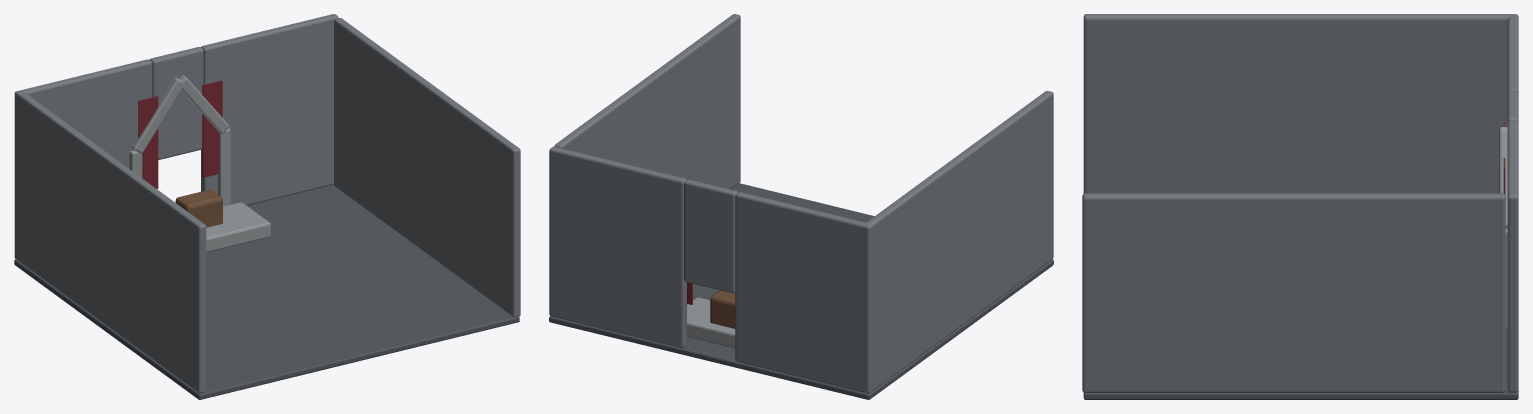
The model's file is great-hall.glb.
3 views of the same model, side by side, from view 1: azimuth 30°, elevation 25°; view 2: azimuth 150°, elevation 25°; view 3: azimuth 270°, elevation 25° (orthographic). The views are drawn at different scales.
Parts seen in each view (by area): view 1: VIS_HALL_FLOOR, VIS_HALL_SIDE_WALL_FRONT_9.75, VIS_HALL_SIDE_WALL_FRONT_-9.75, VIS_HALL_END_WALL_R, VIS_HALL_SIDE_WALL_REAR_-9.75, VIS_HALL_END_WALL_L, VIS_HALL_END_WALL_TOP, VIS_THRONE_DAIS, VIS_BANNER_2.0, VIS_BANNER_-2.0, VIS_THRONE_SEAT, VIS_THRONE_ARCH_ARCH_L (+2 smaller); view 2: VIS_HALL_END_WALL_R, VIS_HALL_END_WALL_L, VIS_HALL_SIDE_WALL_FRONT_-9.75, VIS_HALL_SIDE_WALL_FRONT_9.75, VIS_HALL_SIDE_WALL_REAR_-9.75, VIS_HALL_FLOOR, VIS_HALL_END_WALL_TOP, VIS_THRONE_DAIS, VIS_THRONE_SEAT; view 3: VIS_HALL_SIDE_WALL_FRONT_9.75, VIS_HALL_SIDE_WALL_FRONT_-9.75, VIS_HALL_SIDE_WALL_REAR_-9.75, VIS_HALL_END_WALL_R, VIS_HALL_FLOOR, VIS_HALL_END_WALL_L, VIS_THRONE_ARCH_ARCH_R.
Boxes of the visible parts, box(x1,y1,x2,y2) form: VIS_HALL_FLOOR: box(14, 184, 519, 399); VIS_HALL_SIDE_WALL_FRONT_9.75: box(334, 18, 520, 317); VIS_HALL_SIDE_WALL_FRONT_-9.75: box(61, 124, 206, 393); VIS_HALL_END_WALL_R: box(201, 14, 338, 205); VIS_HALL_SIDE_WALL_REAR_-9.75: box(14, 92, 94, 314); VIS_HALL_END_WALL_L: box(15, 59, 152, 258); VIS_HALL_END_WALL_TOP: box(149, 47, 203, 159); VIS_THRONE_DAIS: box(206, 202, 270, 252); VIS_BANNER_2.0: box(202, 80, 222, 177); VIS_BANNER_-2.0: box(138, 96, 158, 188); VIS_THRONE_SEAT: box(175, 189, 222, 227); VIS_THRONE_ARCH_ARCH_L: box(131, 77, 183, 153); VIS_HALL_END_WALL_R: box(549, 146, 686, 348); VIS_HALL_END_WALL_L: box(735, 192, 872, 392); VIS_HALL_SIDE_WALL_FRONT_-9.75: box(910, 91, 1053, 354); VIS_HALL_SIDE_WALL_FRONT_9.75: box(554, 14, 740, 189); VIS_HALL_SIDE_WALL_REAR_-9.75: box(863, 170, 946, 393); VIS_HALL_FLOOR: box(549, 183, 1053, 399); VIS_HALL_END_WALL_TOP: box(684, 179, 737, 293); VIS_THRONE_DAIS: box(687, 297, 735, 348); VIS_THRONE_SEAT: box(710, 290, 735, 328); VIS_HALL_SIDE_WALL_FRONT_9.75: box(1082, 193, 1505, 392); VIS_HALL_SIDE_WALL_FRONT_-9.75: box(1083, 14, 1407, 193); VIS_HALL_SIDE_WALL_REAR_-9.75: box(1336, 14, 1518, 193); VIS_HALL_END_WALL_R: box(1507, 120, 1518, 392); VIS_HALL_FLOOR: box(1083, 329, 1518, 399); VIS_HALL_END_WALL_L: box(1507, 14, 1518, 93); VIS_THRONE_ARCH_ARCH_R: box(1499, 131, 1507, 228).
Size of the model in its own units: 20.04 by 10.36 by 20.06.
